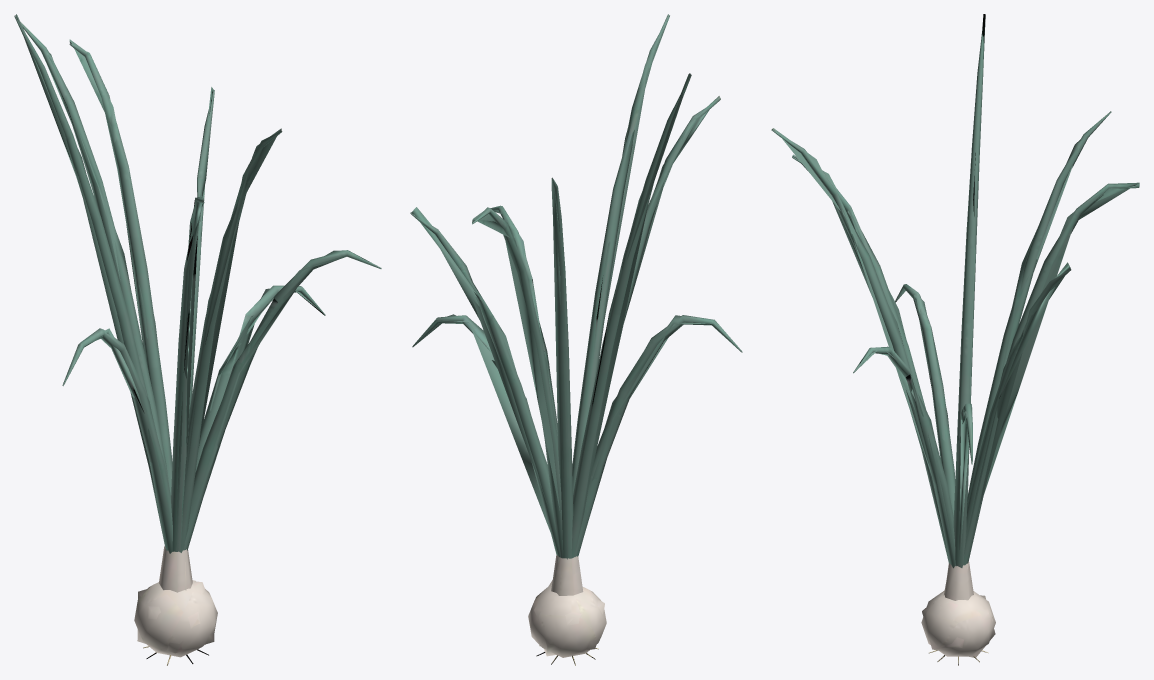
Rendered from cebolla.glb.
The picture shows the model from 3 angles, left to right: view 1: azimuth 30°, elevation 25°; view 2: azimuth 150°, elevation 25°; view 3: azimuth 270°, elevation 25°; orthographic projection. The views are drawn at different scales.
Parts seen in each view (by area): view 1: cebolla, cebolla_lp; view 2: cebolla, cebolla_lp; view 3: cebolla, cebolla_lp.
Boxes of the visible parts, bbox=[...] form: cebolla: bbox=[14, 15, 381, 665]; cebolla_lp: bbox=[15, 14, 380, 664]; cebolla: bbox=[410, 17, 742, 665]; cebolla_lp: bbox=[410, 14, 742, 664]; cebolla: bbox=[771, 34, 1139, 665]; cebolla_lp: bbox=[771, 14, 1139, 661].
Size of the model in its own units: 0.4147 by 0.856 by 0.4934.
2 materials, 2 textured.
